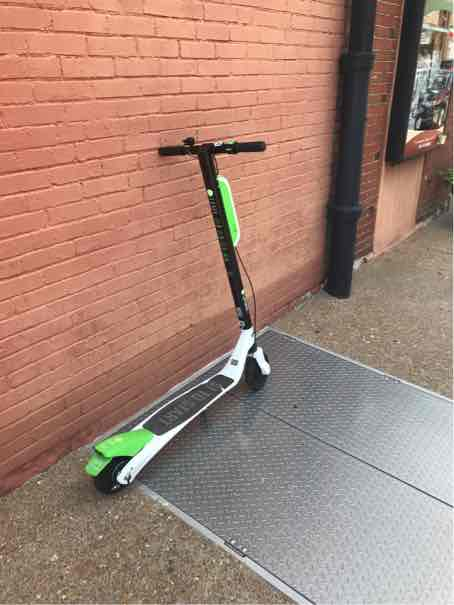scooter: (78, 138, 285, 497)
